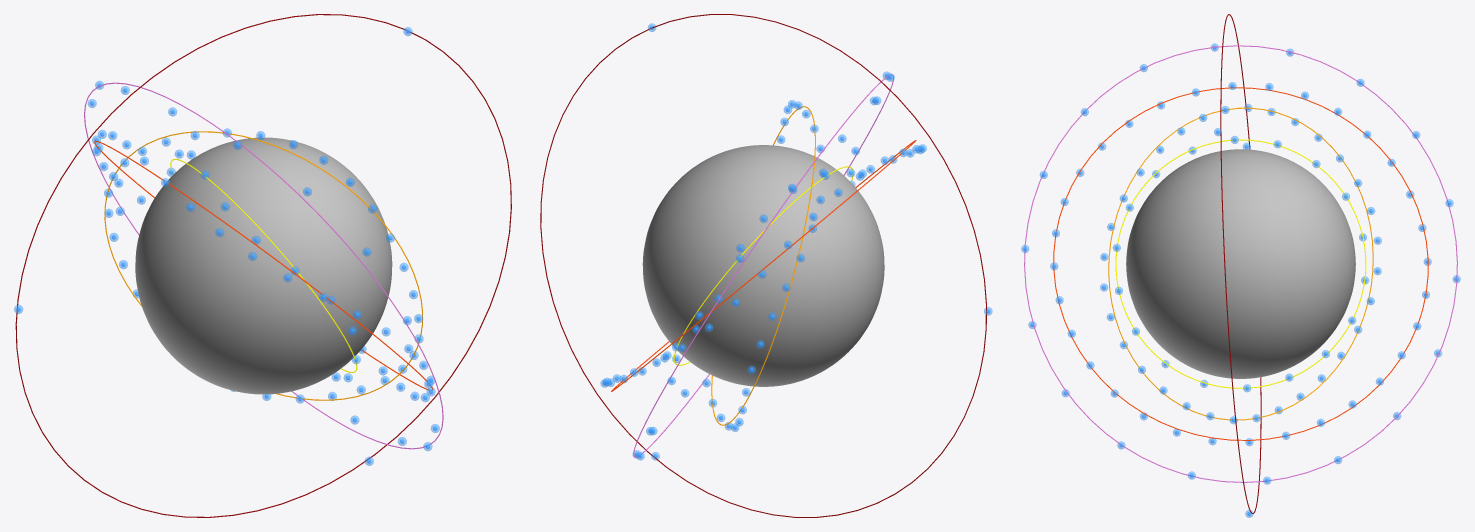
The picture shows the model from 3 angles, left to right: view 1: azimuth 30°, elevation 25°; view 2: azimuth 150°, elevation 25°; view 3: azimuth 270°, elevation 25°; orthographic projection. The views are drawn at different scales.
Visible parts, largest first — view 1: Nh, object 228, object 191, object 61, object 126; view 2: Nh, object 228, object 191, object 126, object 61; view 3: Nh, object 191, object 126, object 61, object 228, object 24.
Boxes of the visible parts, x1,y1,x2,y2 form: Nh: (135,137,392,394); object 228: (15,14,511,517); object 191: (84,82,443,449); object 61: (104,131,422,400); object 126: (94,141,433,390); Nh: (642,145,884,386); object 228: (540,14,986,517); object 191: (633,74,893,457); object 126: (611,140,916,391); object 61: (711,106,815,425); Nh: (1126,149,1355,378); object 191: (1024,45,1457,482); object 126: (1053,87,1428,440); object 61: (1108,107,1373,420); object 228: (1220,14,1261,513); object 24: (1115,139,1366,388).
Size of the model in its own units: 9.68 by 9.6 by 8.44.
